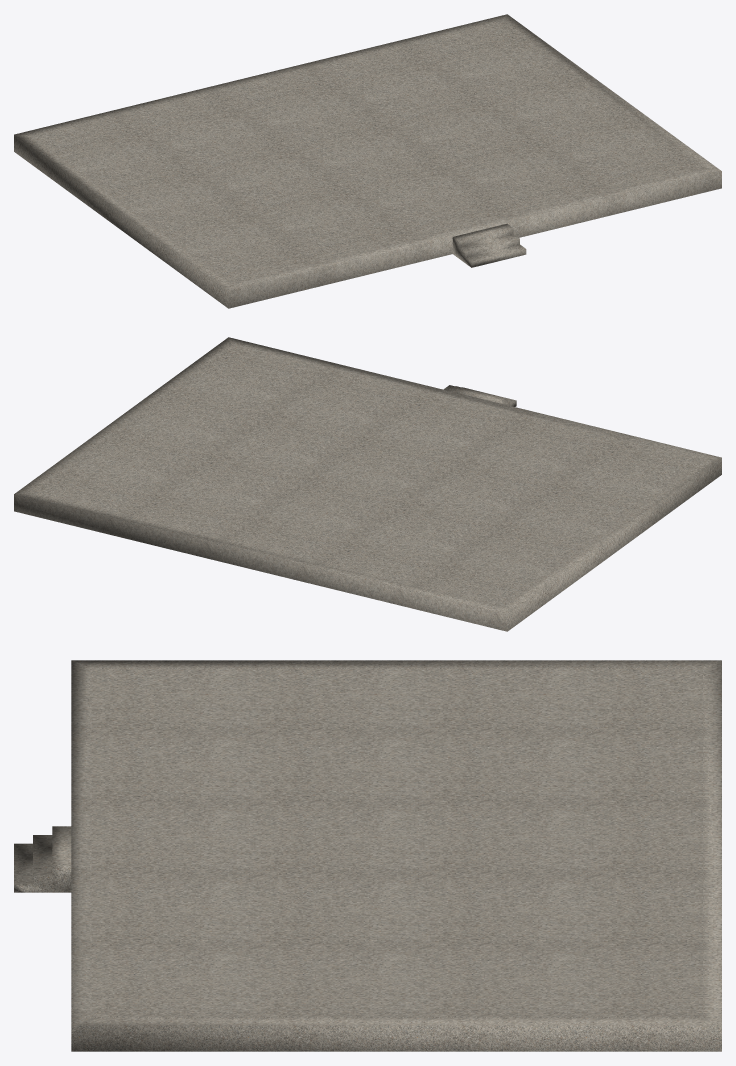
The model's file is building_explode_01.glb.
The picture shows the model from 3 angles, top to bottom: view 1: azimuth 30°, elevation 25°; view 2: azimuth 150°, elevation 25°; view 3: azimuth 270°, elevation 25°; orthographic projection. The views are drawn at different scales.
Visible parts, largest first — view 1: full_building.001; view 2: full_building.001; view 3: full_building.001.
Boxes of the visible parts, x1,y1,x2,y2 form: full_building.001: (14, 14, 721, 308); full_building.001: (14, 337, 721, 631); full_building.001: (14, 660, 721, 1051).
Bounding box in the file's own units: 5.34 × 0.1772 × 4.38.
1 material, 1 textured.
